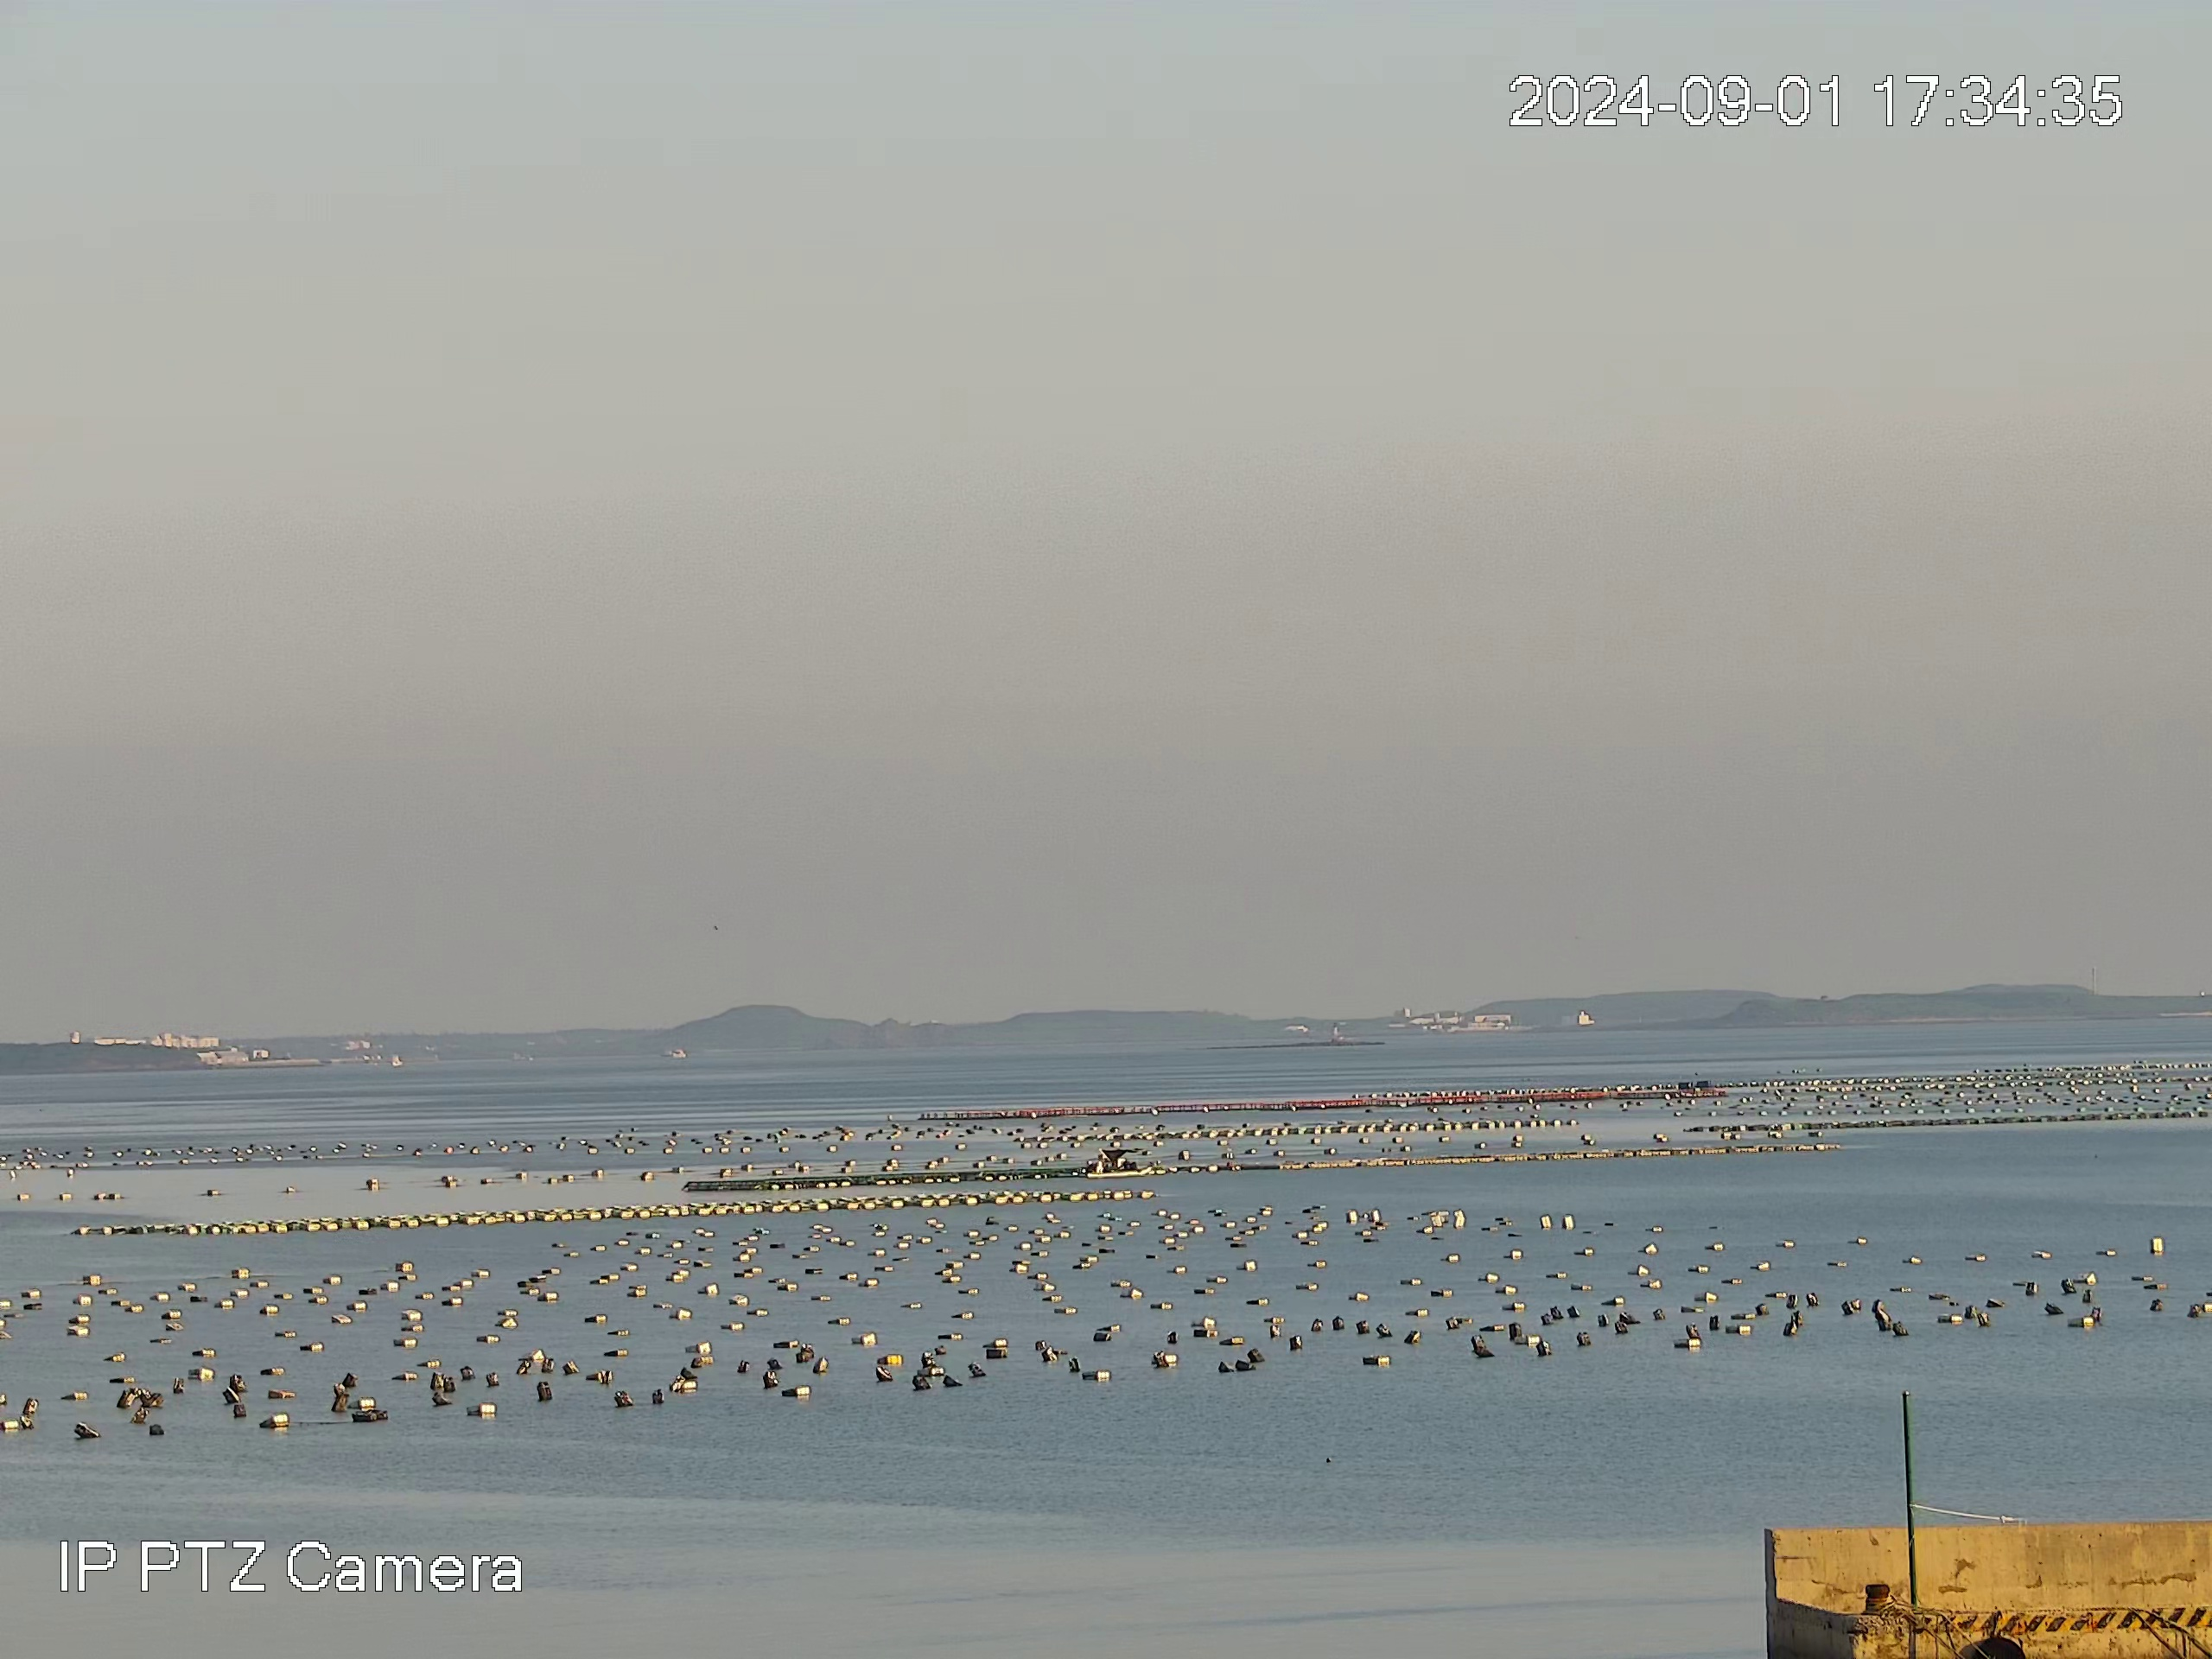boat: (1087, 1141, 1153, 1178)
